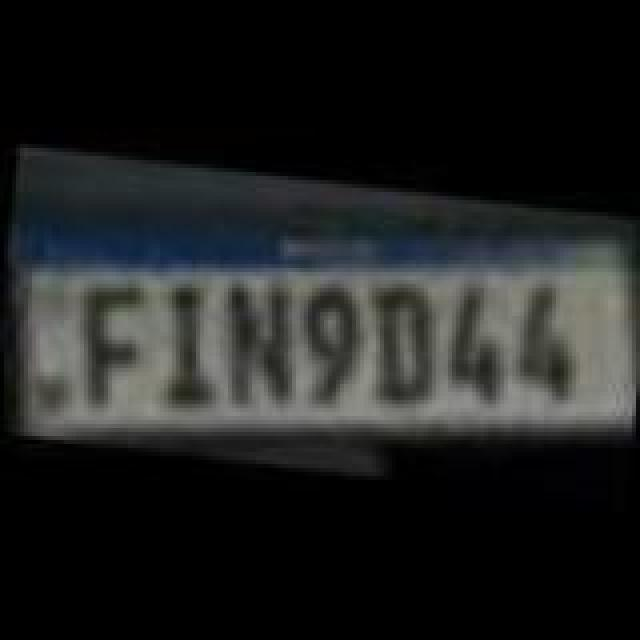4: (502, 268, 586, 408), (430, 274, 514, 414)
9: (284, 276, 372, 412)
D: (364, 274, 452, 414)
F: (66, 282, 158, 426)
I: (140, 270, 228, 414)
N: (210, 268, 302, 412)
